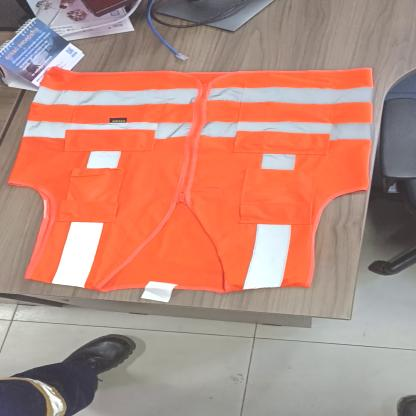colete: (8, 64, 376, 292)
